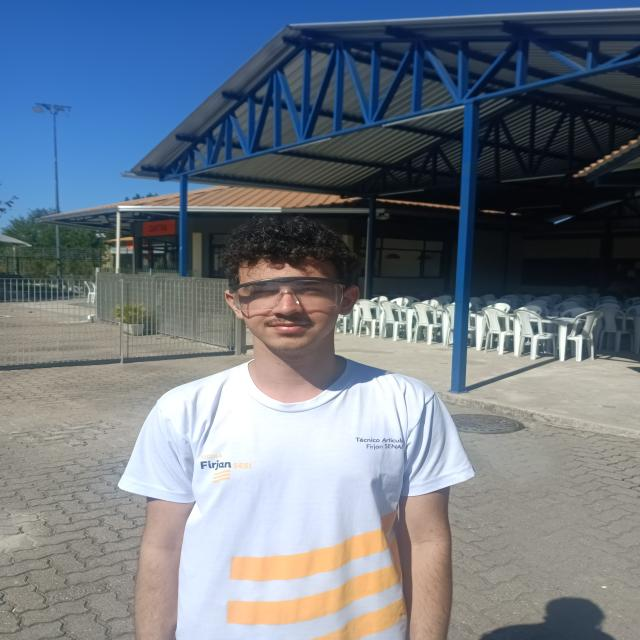oculos-epi: (229, 276, 344, 317)
